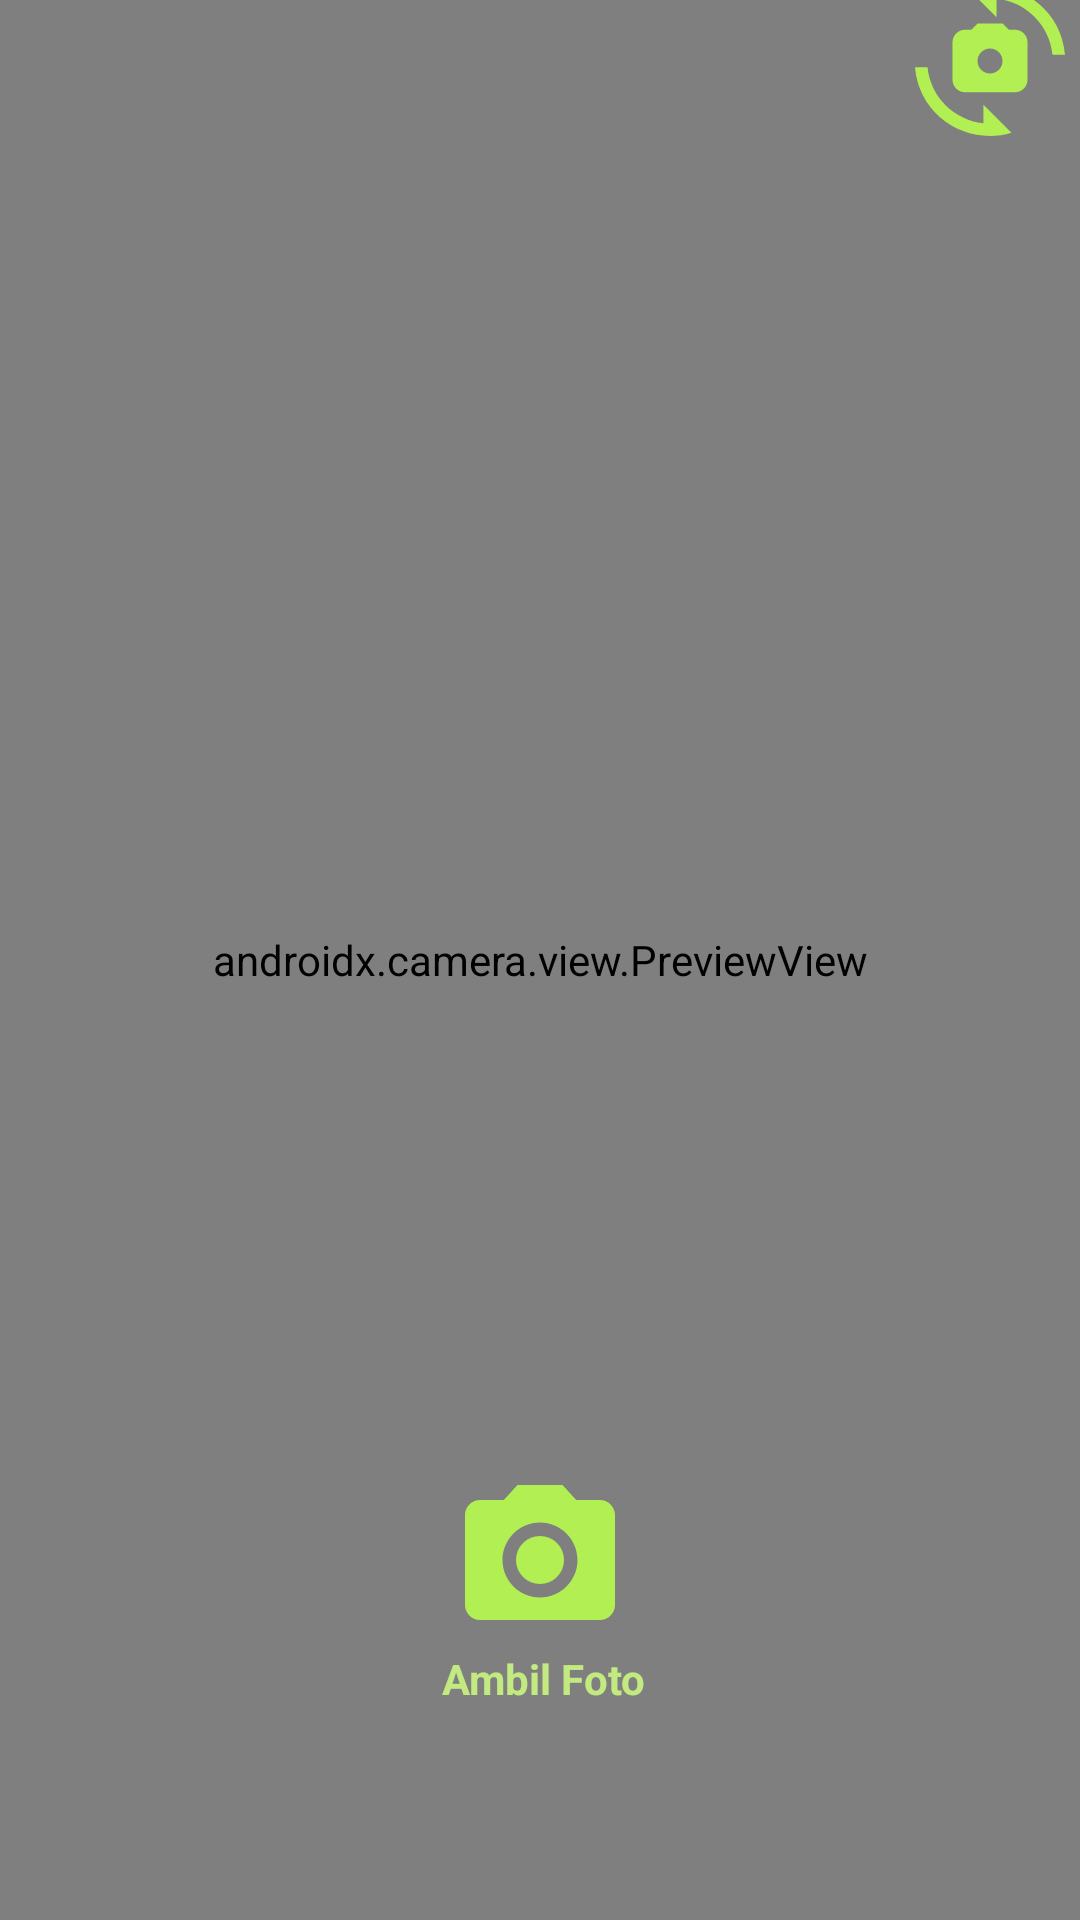

Icon click points for this 1080×1920 phone screenshot, format (x=x, y=y):
cam: (x=540, y=1552)
switch: (x=990, y=68)
